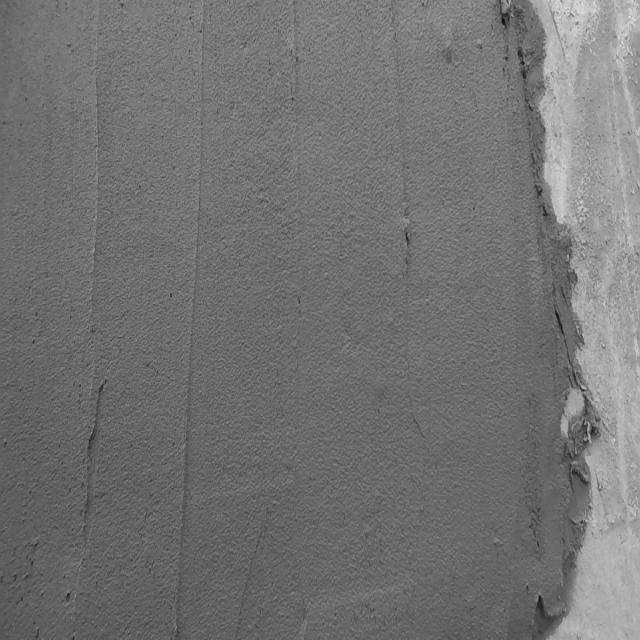trowels marks: (176, 14, 207, 640), (91, 29, 103, 356)
